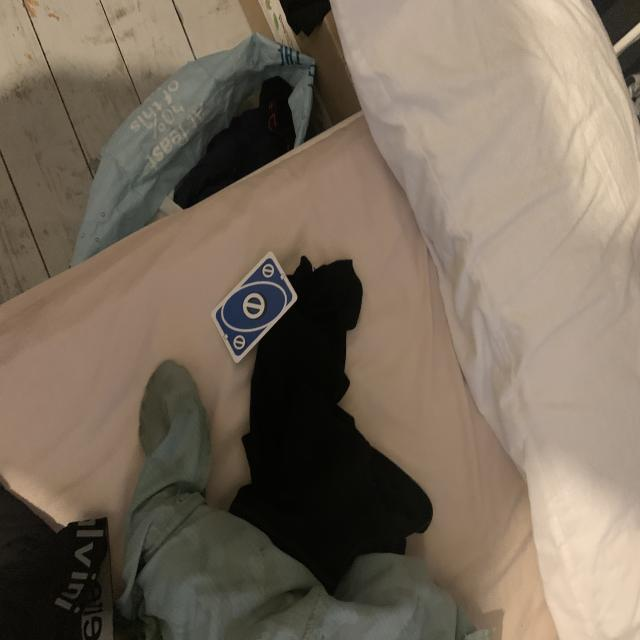lblueskip-20: (259, 261, 276, 281)
